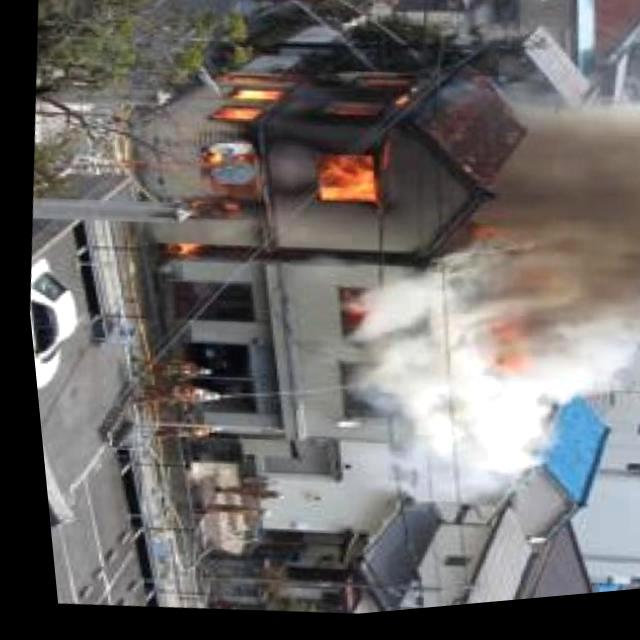fire: (126, 34, 452, 302)
